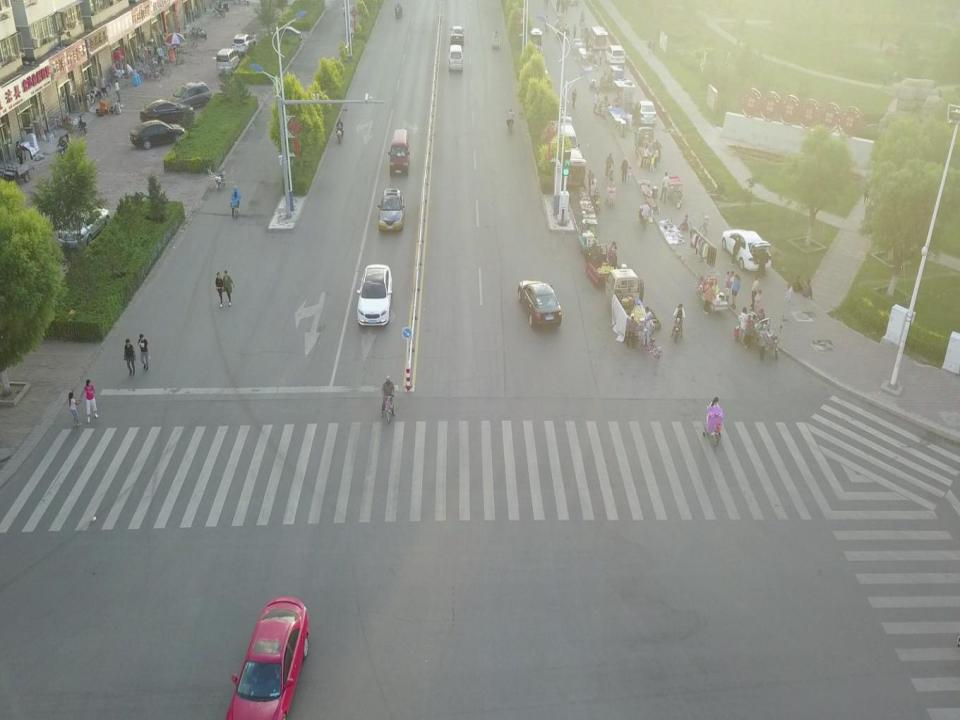car: (227, 596, 309, 720), (357, 262, 391, 330), (723, 228, 771, 274), (519, 280, 562, 328), (130, 120, 186, 150), (140, 100, 194, 123), (378, 188, 403, 234), (167, 83, 211, 107), (561, 149, 585, 187), (390, 129, 408, 176), (556, 120, 580, 152), (216, 46, 239, 74), (268, 26, 303, 42), (637, 99, 655, 125), (589, 26, 608, 49), (448, 44, 464, 71), (606, 42, 622, 65), (234, 34, 251, 55), (450, 25, 463, 46)
truck: (606, 267, 655, 338), (634, 126, 659, 165)
